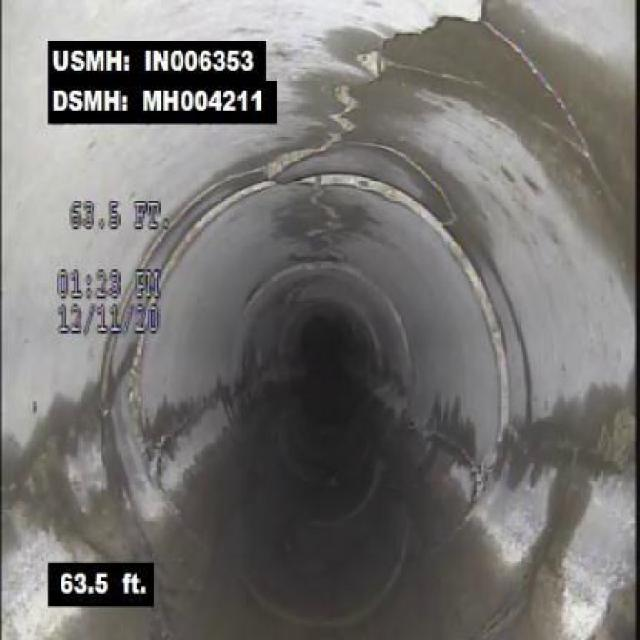Buckling: (330, 6, 484, 120), (251, 131, 374, 194)
